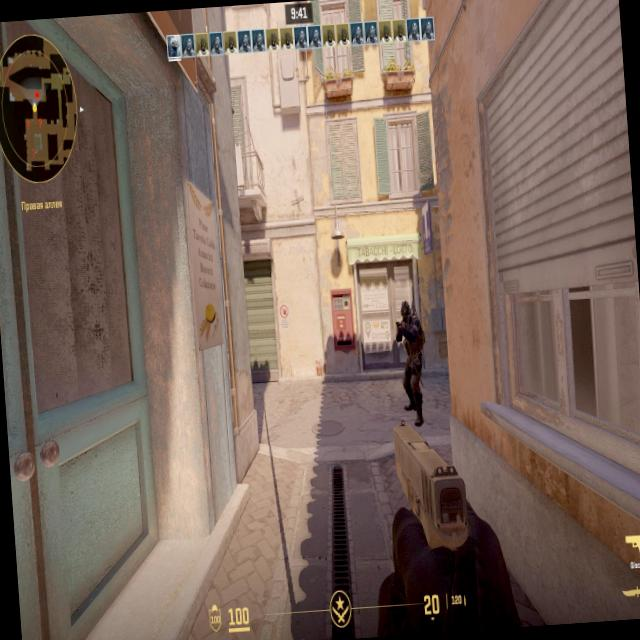CT: (399, 303, 424, 430)
CT_heat: (402, 307, 408, 318)
